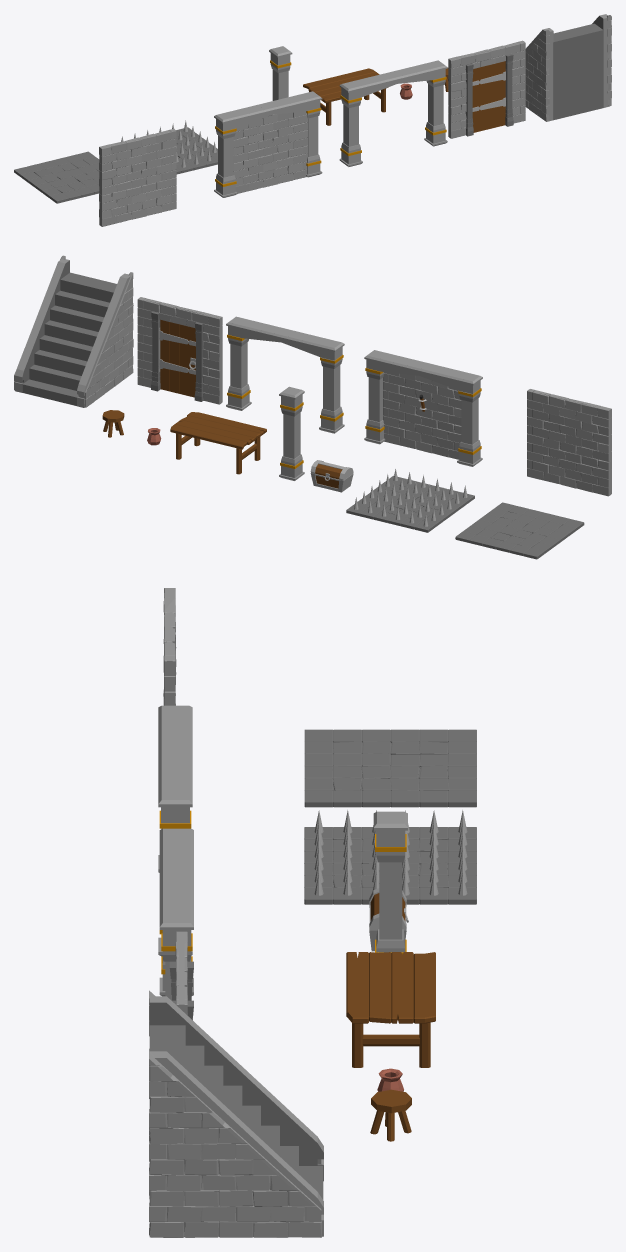
File: DungenSet .fbx
3 views of the same model, one above another, from view 1: azimuth 30°, elevation 25°; view 2: azimuth 150°, elevation 25°; view 3: azimuth 270°, elevation 25° (orthographic). The views are drawn at different scales.
Visible parts, largest first — view 1: WallGateJoined, Stairs, Full Wall, DoorWALL, WallGate, Floor, Door, FlorTrap, Table, Pillar; view 2: Stairs, WallGateJoined, Full Wall, DoorWALL, WallGate, FlorTrap, Floor, Table, Door, Pillar, Chest, Stoll; view 3: Stairs, Floor, FlorTrap, Table, WallGate, WallGateJoined, Pillar, DoorWALL, Full Wall, Stoll.
Boxes of the visible parts, x1,y1,x2,y2 form: WallGateJoined: [214, 91, 322, 197]; Stairs: [525, 14, 611, 121]; Full Wall: [99, 129, 176, 226]; DoorWALL: [448, 40, 525, 138]; WallGate: [339, 60, 447, 166]; Floor: [14, 151, 99, 203]; Door: [472, 61, 505, 132]; FlorTrap: [121, 120, 217, 174]; Table: [303, 68, 388, 125]; Pillar: [269, 46, 292, 100]; Stairs: [14, 255, 133, 407]; WallGateJoined: [364, 350, 482, 466]; Full Wall: [527, 389, 611, 496]; DoorWALL: [137, 297, 222, 404]; WallGate: [226, 316, 344, 433]; FlorTrap: [346, 469, 474, 532]; Floor: [455, 502, 584, 559]; Table: [170, 412, 266, 474]; Door: [159, 319, 195, 397]; Pillar: [279, 386, 304, 480]; Chest: [310, 460, 353, 492]; Stoll: [102, 410, 124, 437]; Stairs: [149, 990, 323, 1237]; Floor: [304, 729, 476, 807]; FlorTrap: [304, 810, 476, 904]; Table: [346, 952, 435, 1067]; WallGate: [159, 828, 193, 1000]; WallGateJoined: [158, 705, 192, 956]; Pillar: [373, 811, 407, 954]; DoorWALL: [169, 931, 193, 1020]; Full Wall: [163, 588, 176, 705]; Stoll: [370, 1089, 411, 1141].
Size of the model in its own units: 2074 by 353 by 570.
